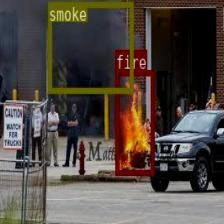fire: (114, 70, 154, 175)
smoke: (48, 1, 133, 92)
